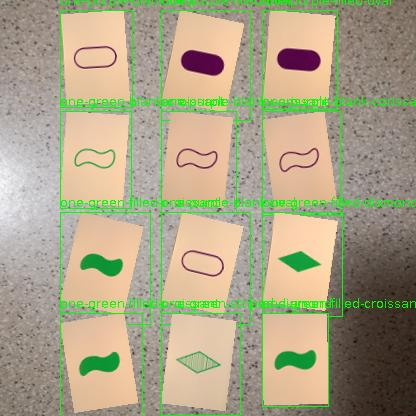one-green-blank-croissant: (60, 111, 131, 208)
one-green-filled-croissant: (60, 212, 150, 324), (60, 313, 142, 416), (262, 313, 328, 406)
one-green-filled-diamond: (262, 212, 342, 316)
one-green-striped-diamond: (161, 313, 240, 415)
one-purple-blank-corissant: (262, 111, 340, 215), (161, 111, 236, 212)
one-purple-blank-oval: (161, 212, 250, 324), (60, 10, 132, 107)
one-purple-filled-oval: (161, 10, 250, 120), (262, 10, 337, 109)
